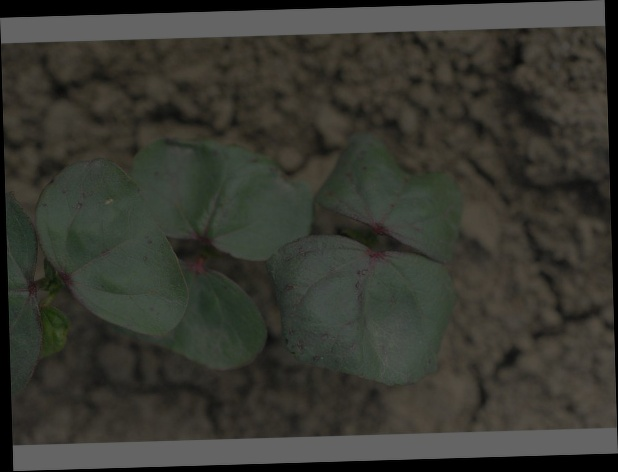cotton: (7, 134, 466, 391)
